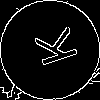K: (25, 25, 79, 71)
